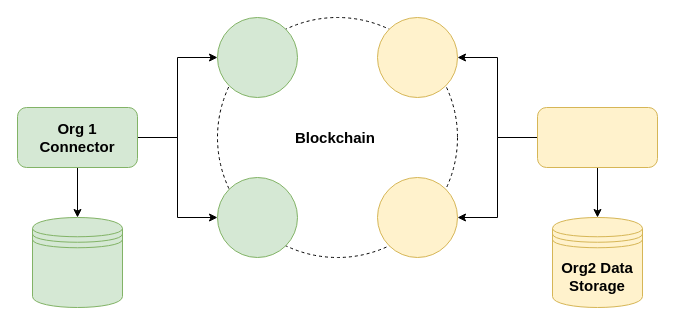
Image size: 675x325. Some labels were removed from this diagram. Here are the shapes that lost their labels. From the top down, the centre of each, then its label:
At pixel 597 137: "Org 2 Connector".
At pixel 77 262: "Org1 Data Storage".
